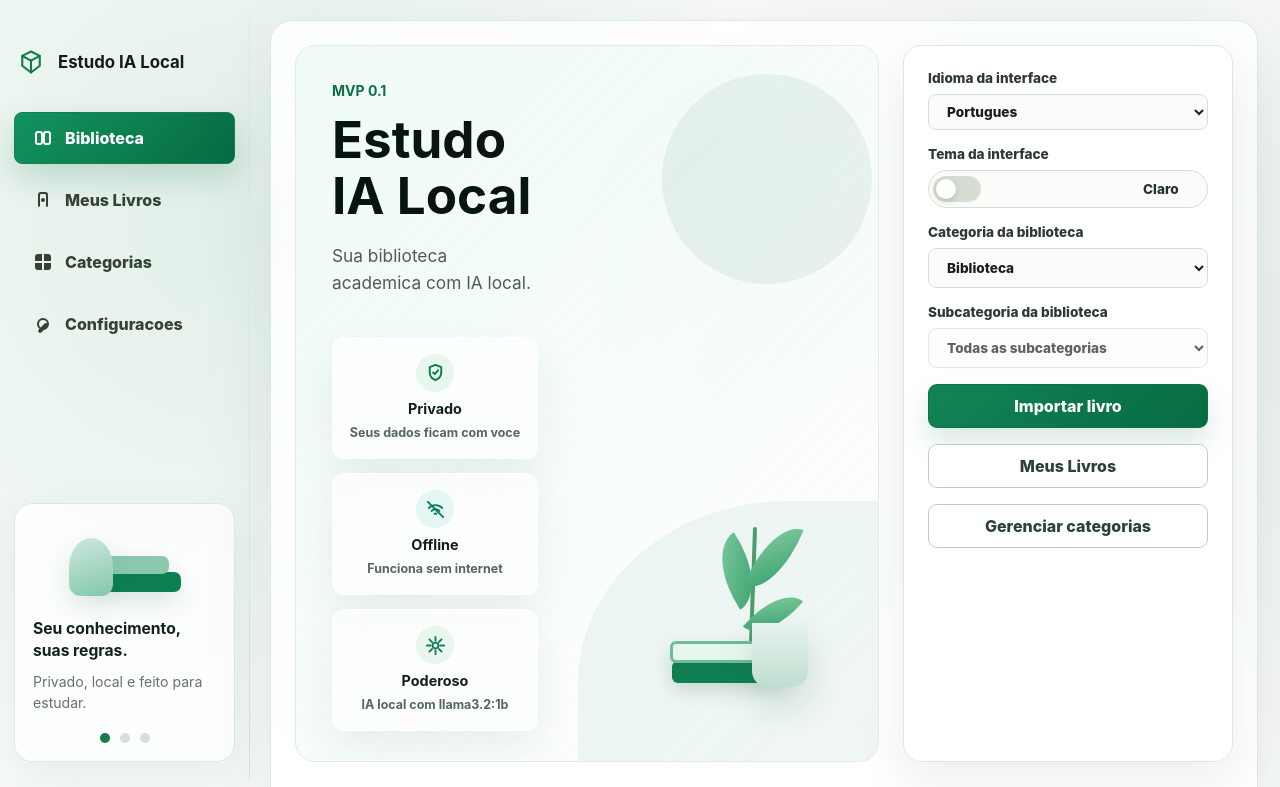
Test: App › changes the visual theme and persists the selected option
The image size is (1280, 787).
Click the switch named "Tema da interface" at x=957, y=189, box [928, 170, 1208, 208]
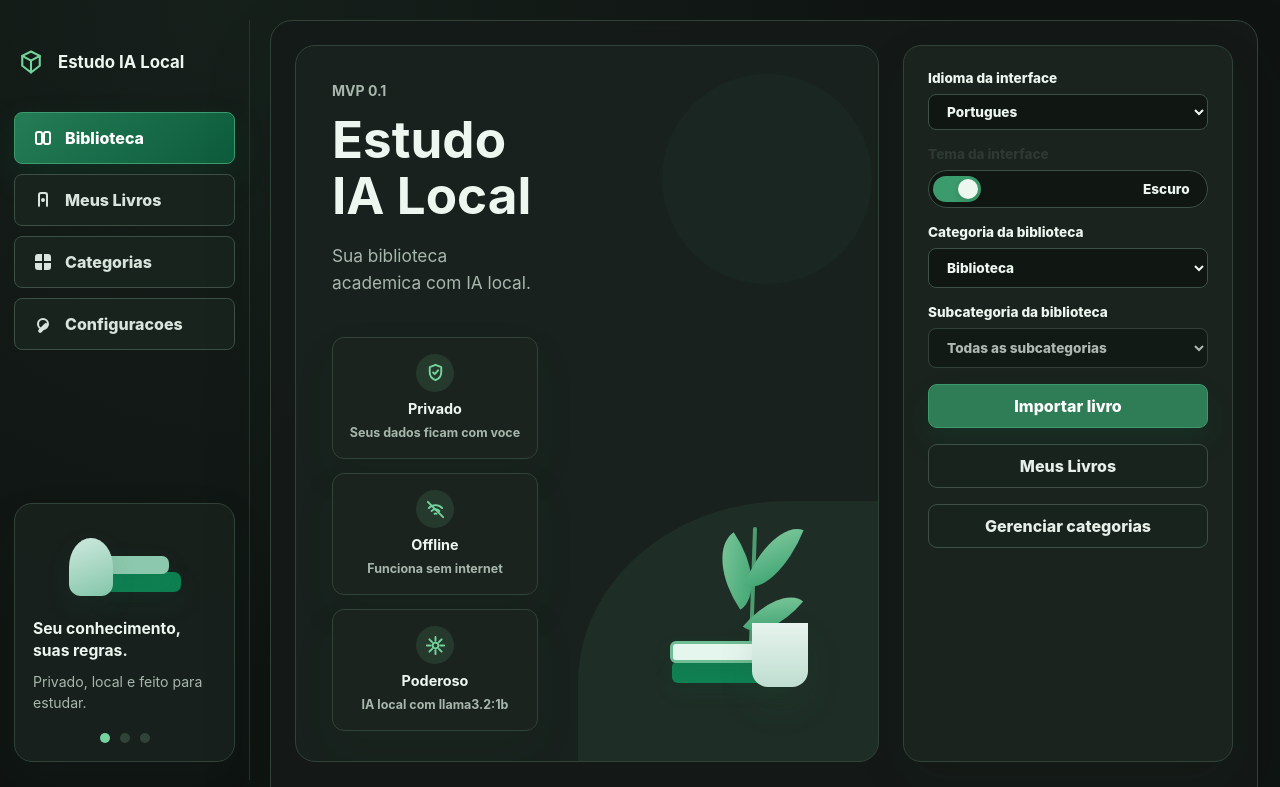
Expected: the switch named "Tema da interface" reads "Escuro"
Click the switch named "Tema da interface" at x=957, y=189, box [928, 170, 1208, 208]
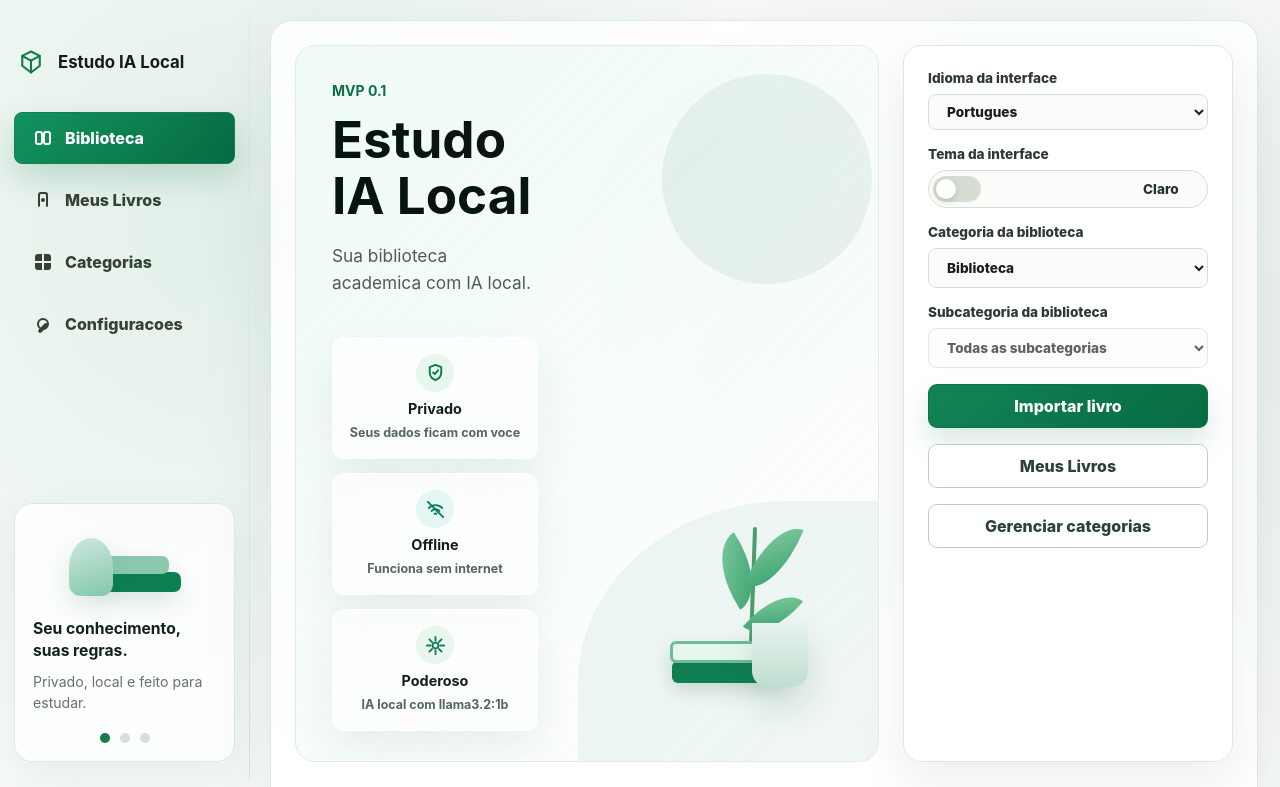
Expected: the switch named "Tema da interface" reads "Claro", [928, 170, 1208, 208]
